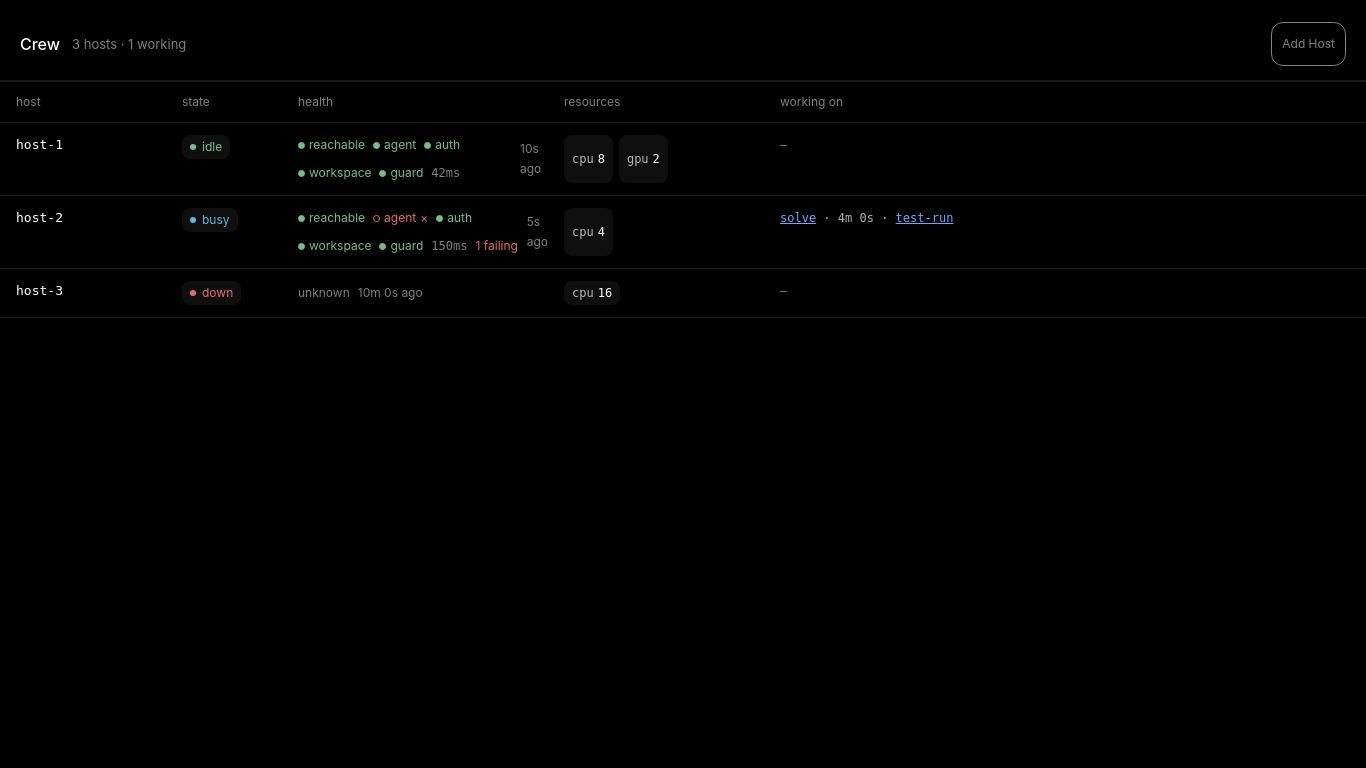
CrewPanel › should open host drawer on row click and fetch host leases
Expected: the text "host-2" is shown, x1=16 y1=210 x2=63 y2=225
Click the button "host-2" at (39, 218), box x1=0 y1=196 x2=1365 y2=269
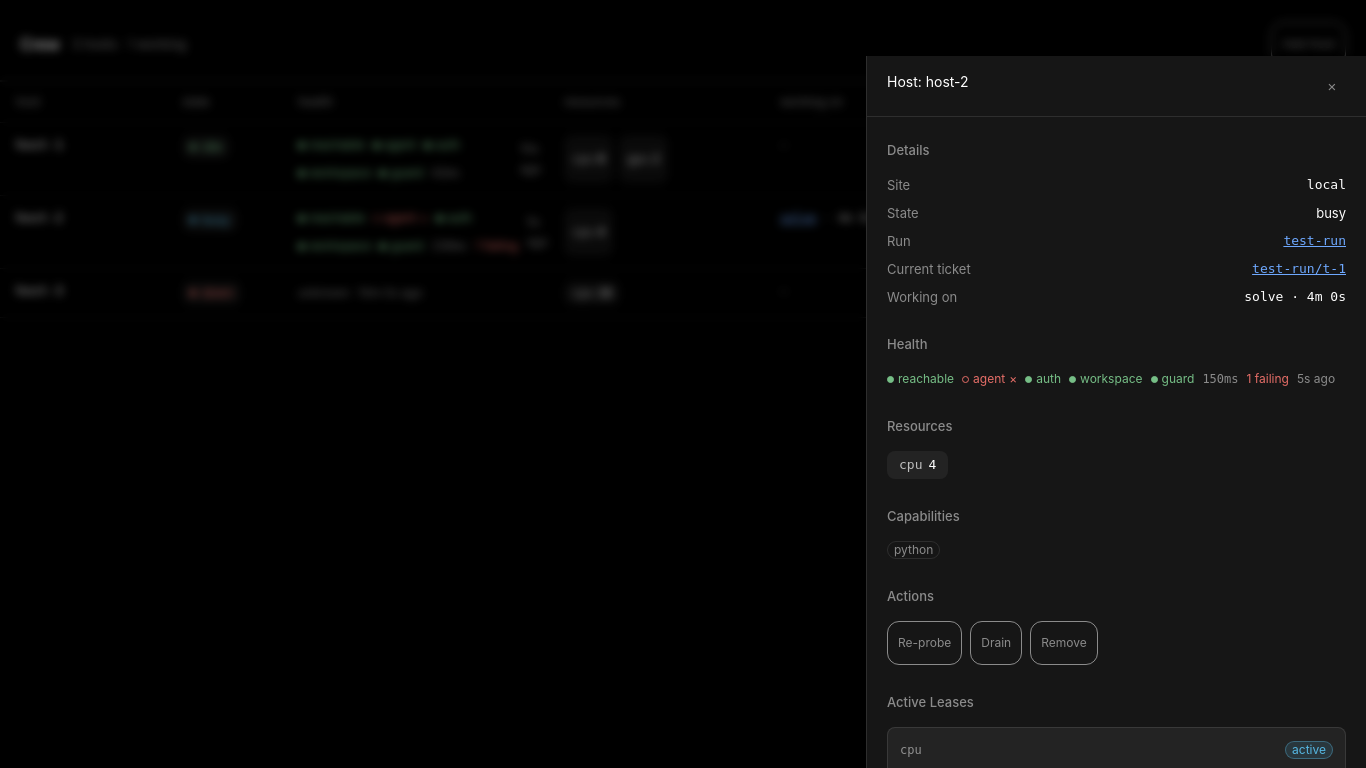
Result: the link "test-run/t-1" is shown at x1=1252 y1=259 x2=1346 y2=279
